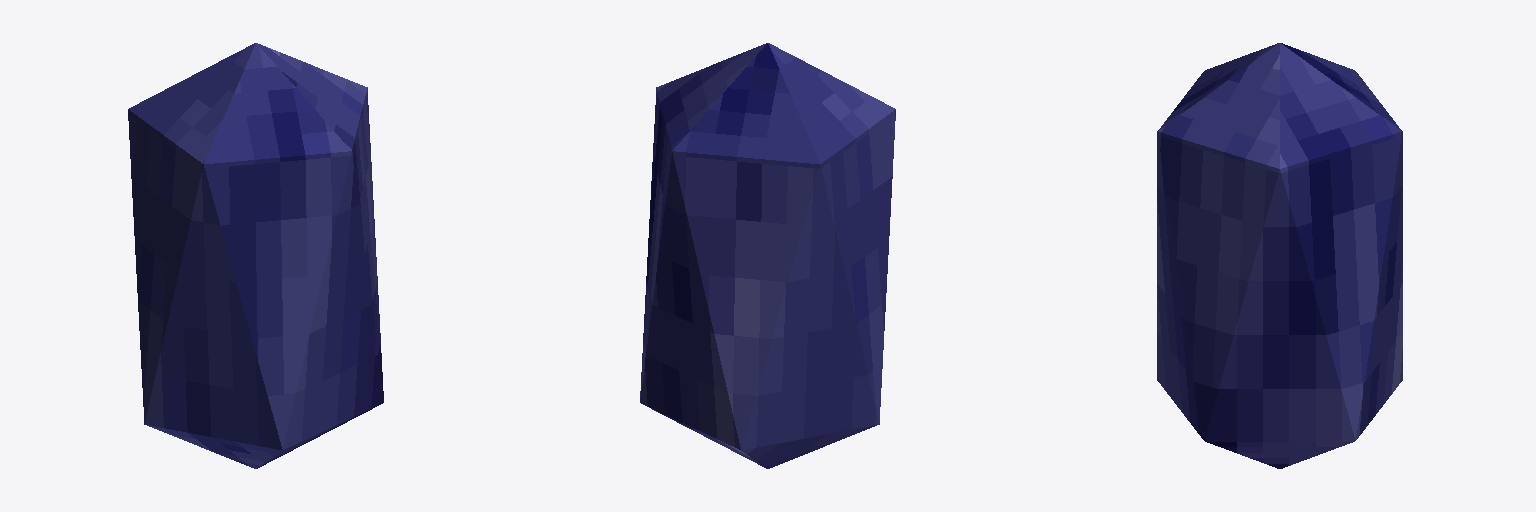
3 views of the same model, side by side, from view 1: azimuth 30°, elevation 25°; view 2: azimuth 150°, elevation 25°; view 3: azimuth 270°, elevation 25° (orthographic).
Parts seen in each view (by area): view 1: Tutorial.029; view 2: Tutorial.029; view 3: Tutorial.029.
Part boxes in pixels (x1,y1,x2,y2): Tutorial.029: (128, 43, 383, 468); Tutorial.029: (640, 43, 895, 468); Tutorial.029: (1157, 43, 1402, 468).
Bounding box in the file's own units: 1.79 × 3.27 × 1.7.
Materials: 1 (1 with a texture image).